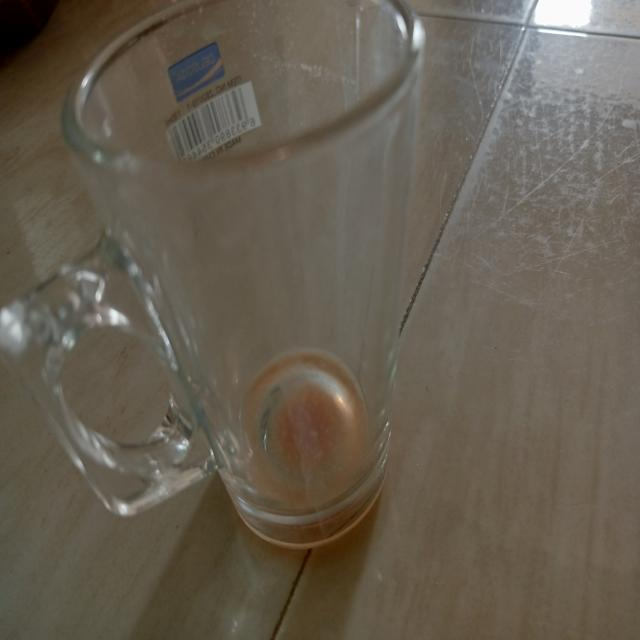glass-VX4N: (0, 3, 425, 559)
